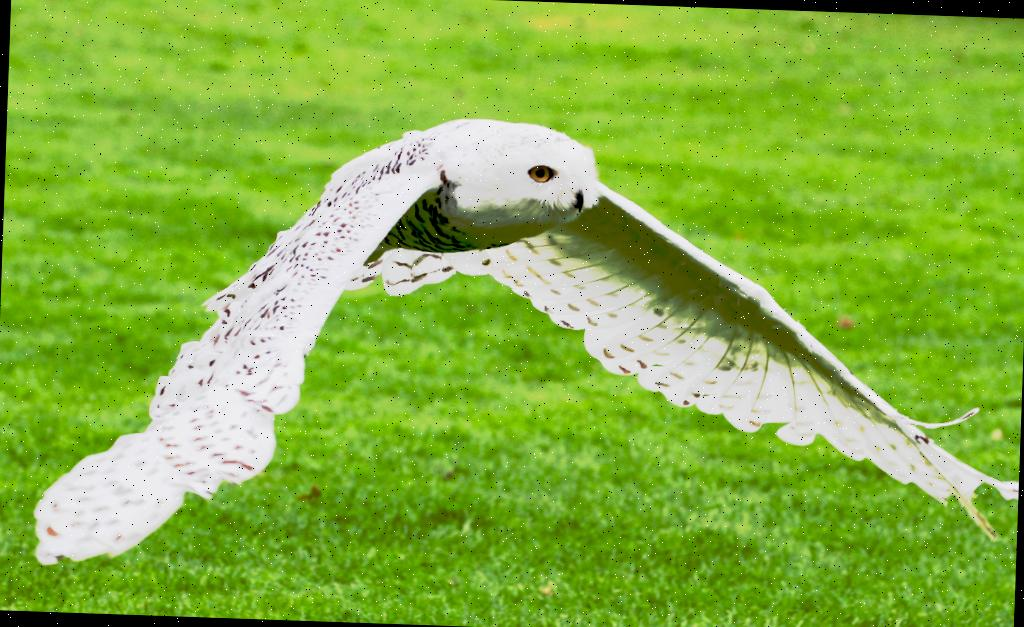Owl: (38, 94, 1024, 592)
